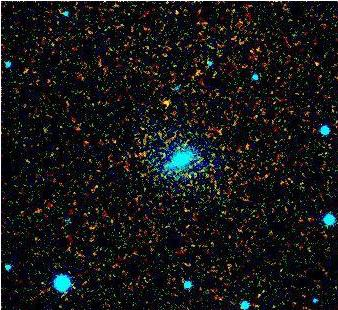star: (146, 80, 176, 110)
